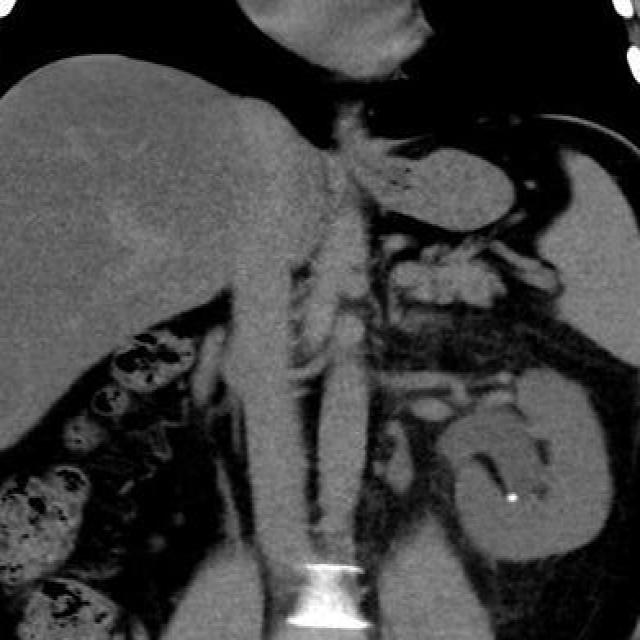Tas_Var: (508, 489, 520, 509)
